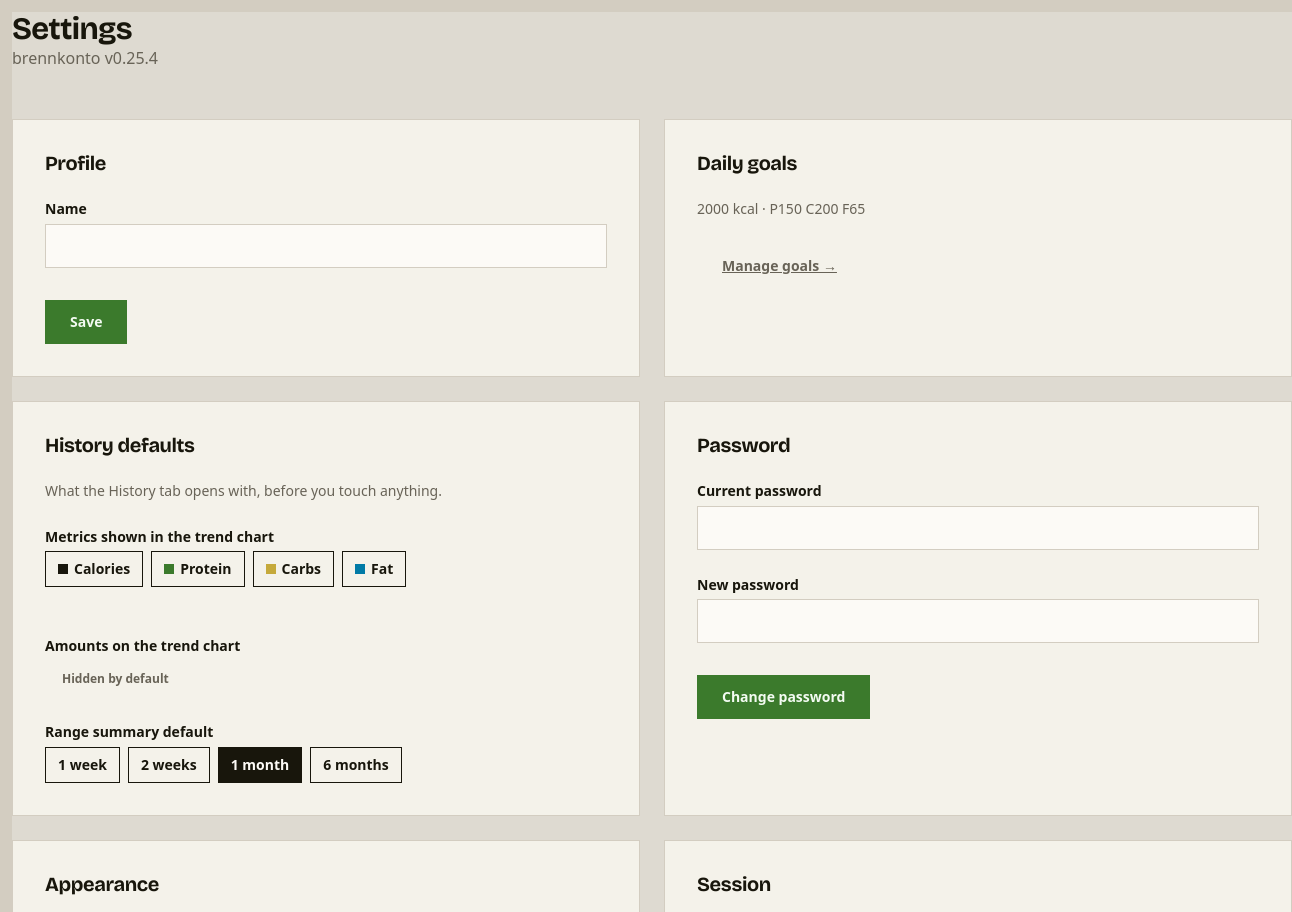
Settings › HistoryDefaultsCard › toggling amounts flips its label and persists the change
The width and height of the screenshot is (1292, 912).
Click the button "Hidden by default": (115, 679) x1=45 y1=661 x2=186 y2=697
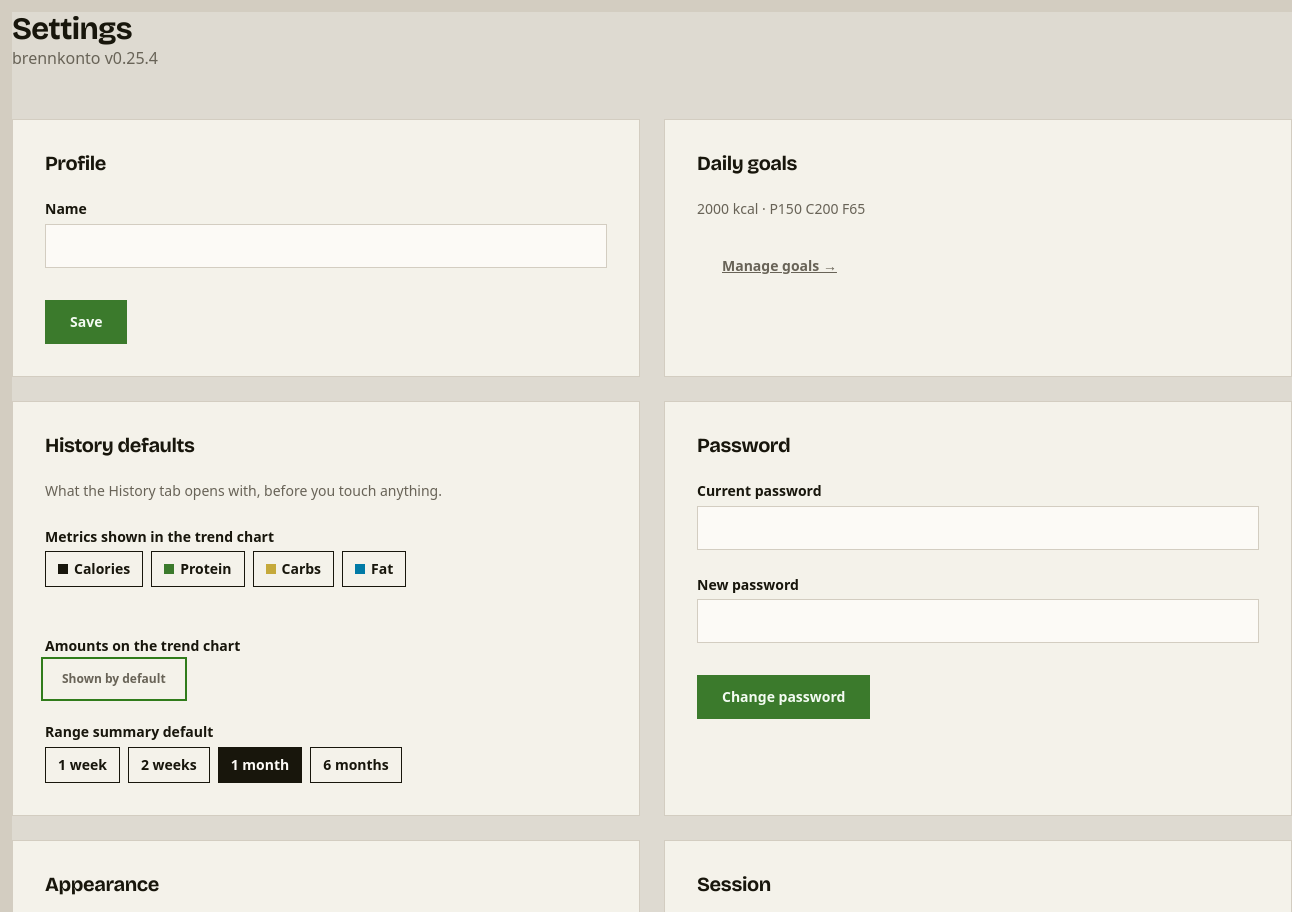
Expected: the button "Shown by default" is shown, x1=45 y1=661 x2=183 y2=697
